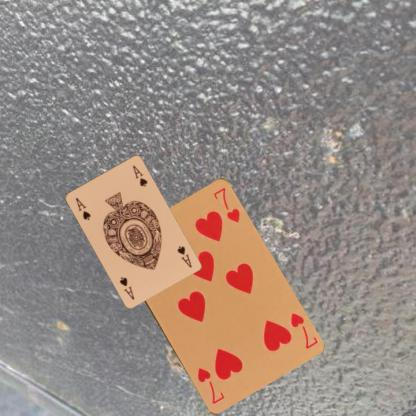7h: (287, 310, 319, 350)
As: (72, 195, 92, 221), (174, 243, 193, 269)
